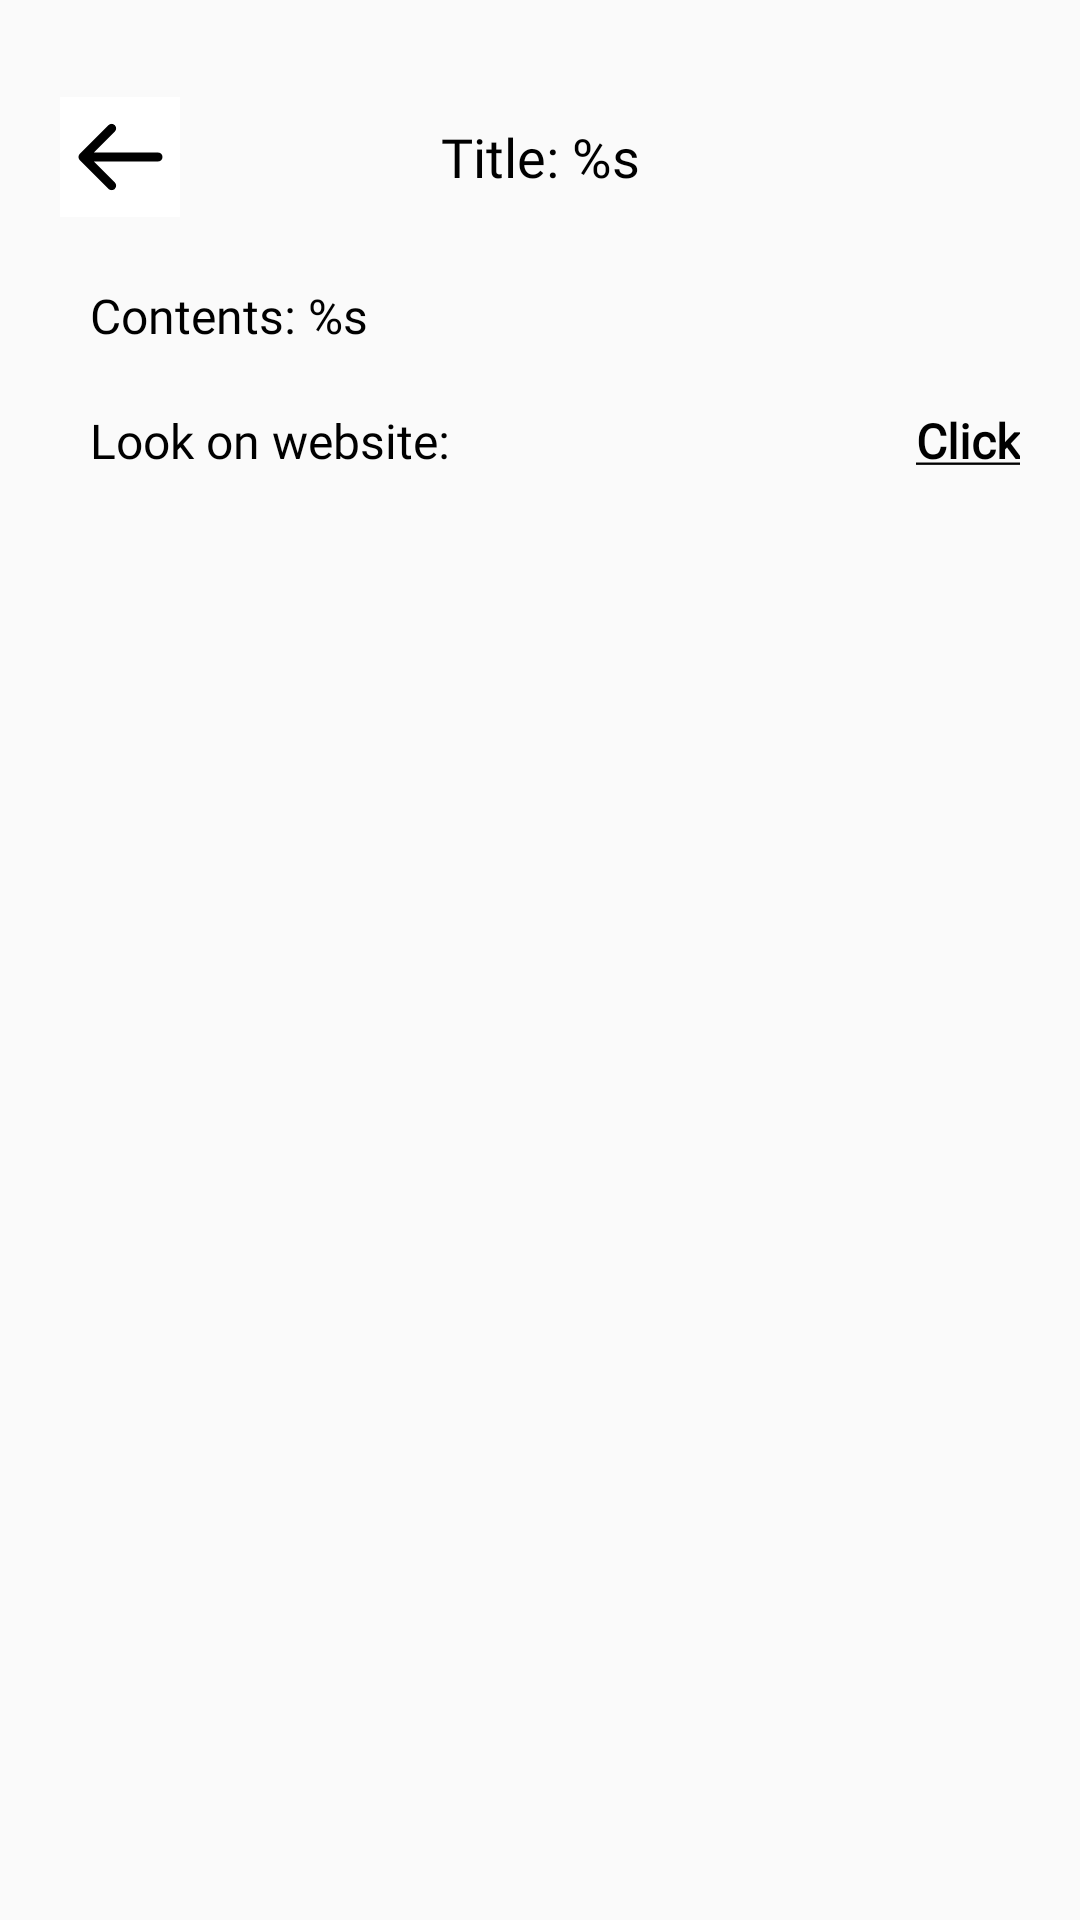

Where to tap for icons on this 1080 × 1920 app screen, as (x=x, y=y):
back arrow: (x=120, y=157)
